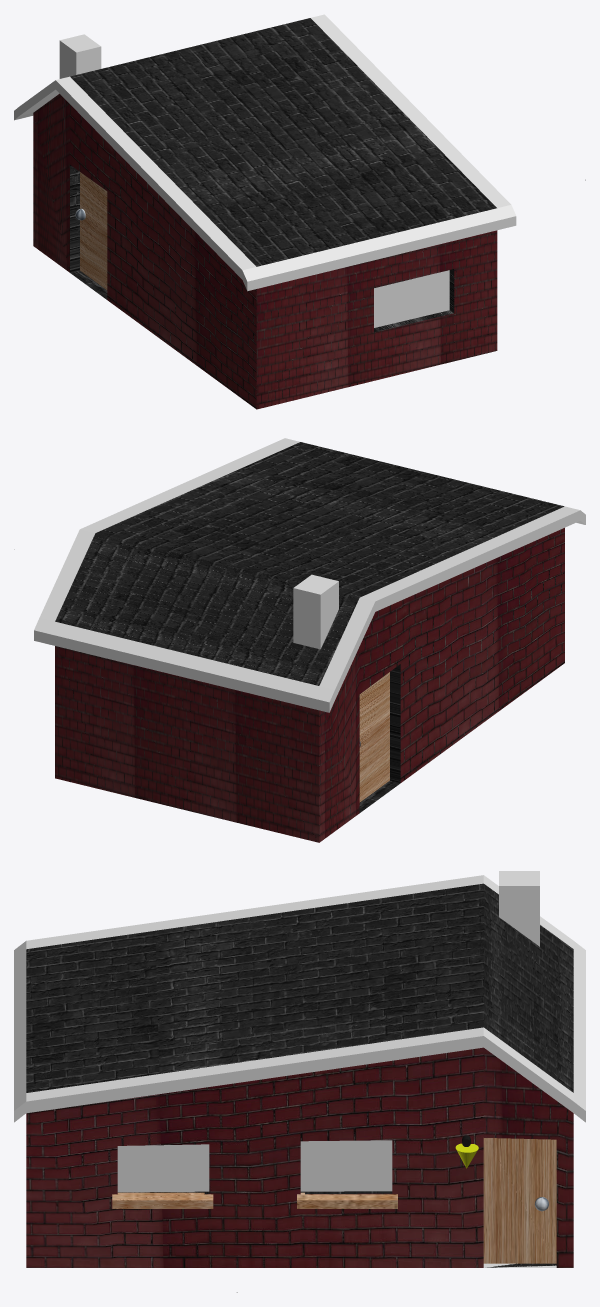
The model's file is House 1.fbx.
3 views of the same model, one above another, from view 1: azimuth 30°, elevation 25°; view 2: azimuth 150°, elevation 25°; view 3: azimuth 270°, elevation 25° (orthographic). The views are drawn at different scales.
Parts seen in each view (by area): view 1: Cube.001, Cube.002; view 2: Cube.001, Cube.002; view 3: Cube.001, Cube, Cube.002.
Boxes of the visible parts, x1,y1,x2,y2 form: Cube.001: (14,14,516,409); Cube.002: (59,34,101,78); Cube.001: (34,438,585,842); Cube.002: (293,574,338,649); Cube.001: (14,875,585,1267); Cube: (483,1138,556,1263); Cube.002: (499,871,539,946).
Bounding box in the file's own units: 1261 × 597 × 1188.
